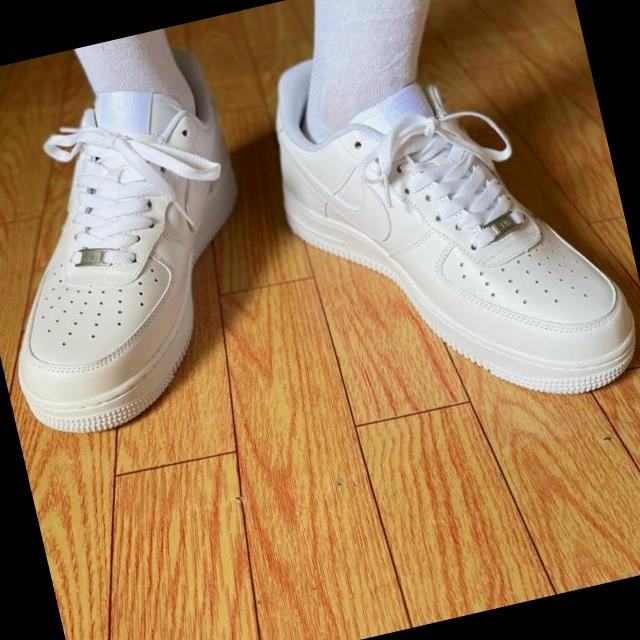nike_original_airforce: (249, 0, 640, 449), (0, 37, 302, 452)
